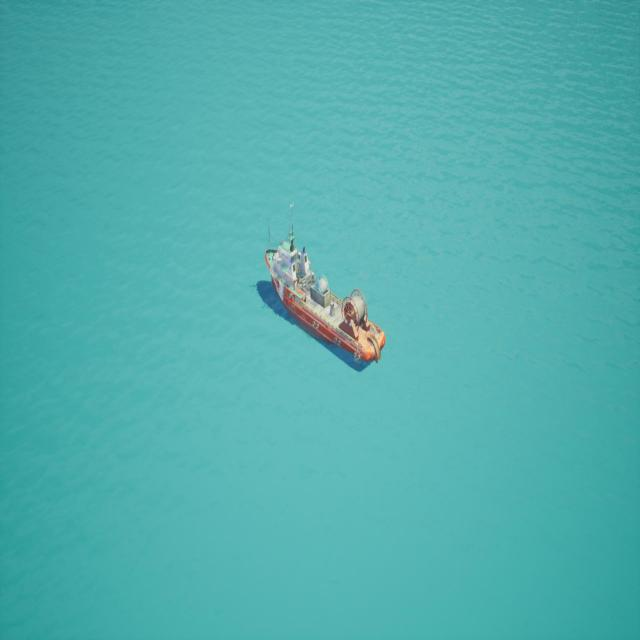tug boat: (258, 203, 376, 375)
